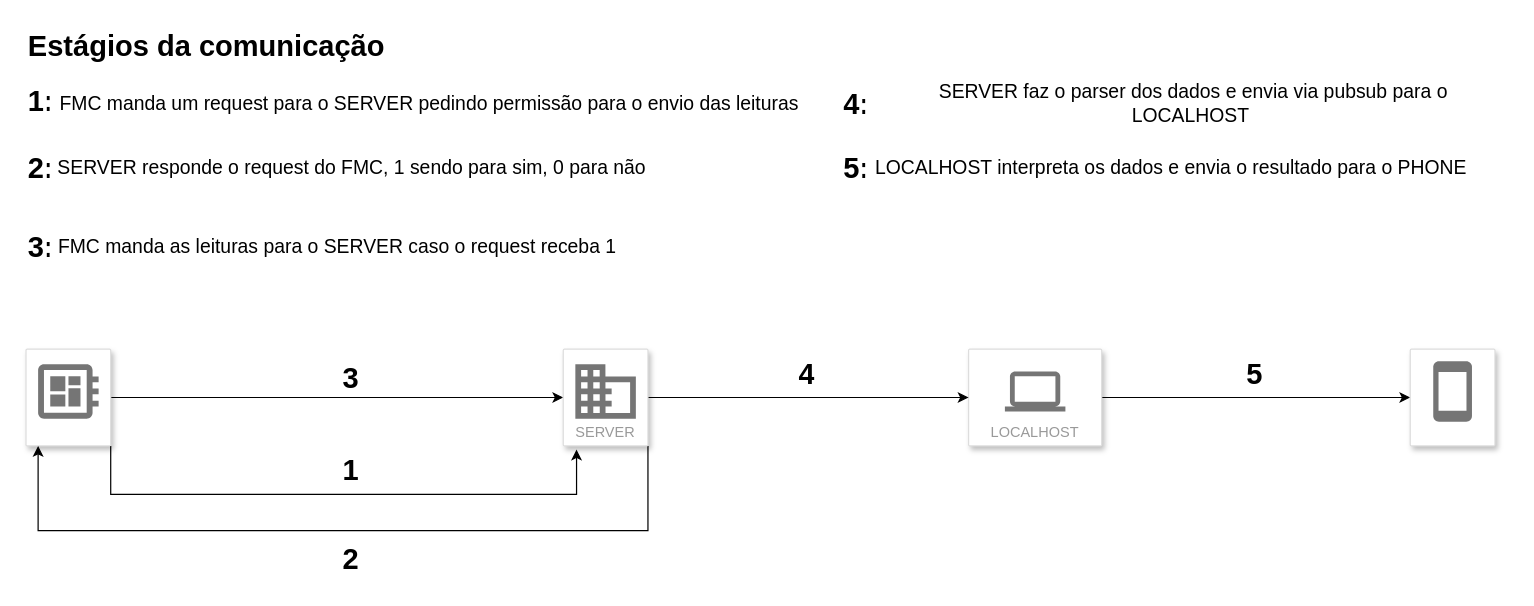
The diagram is 1534 pixels wide and 606 high, and some of its shapes have lost their labels. The shapes that lost their labels are listed below. From the top down, each one's centre as x and y in pixels, then its label:
(69,398): FMC003
(1453,398): PHONE
